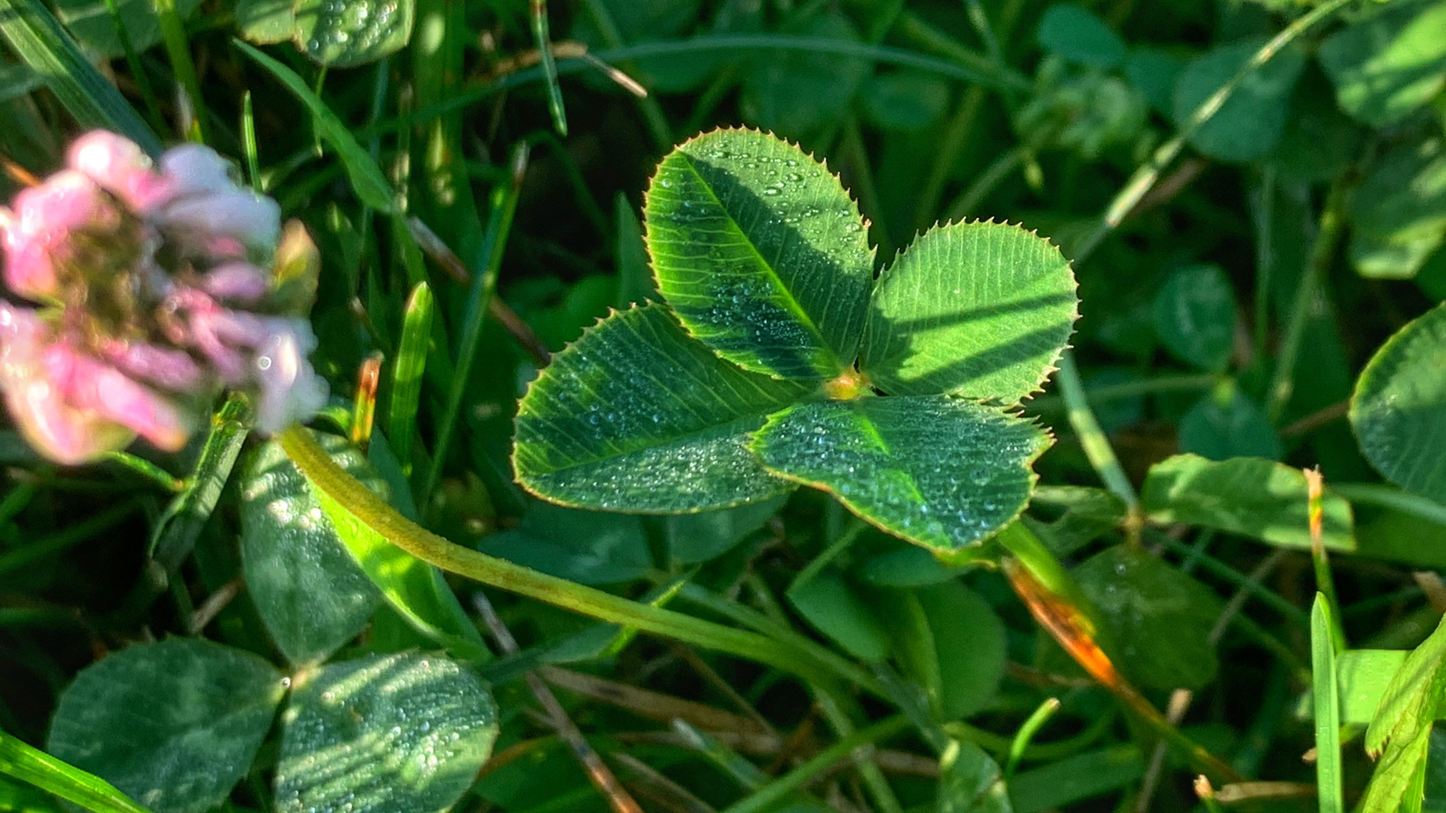4-Leaf-Clovers: (248, 210, 982, 531)
